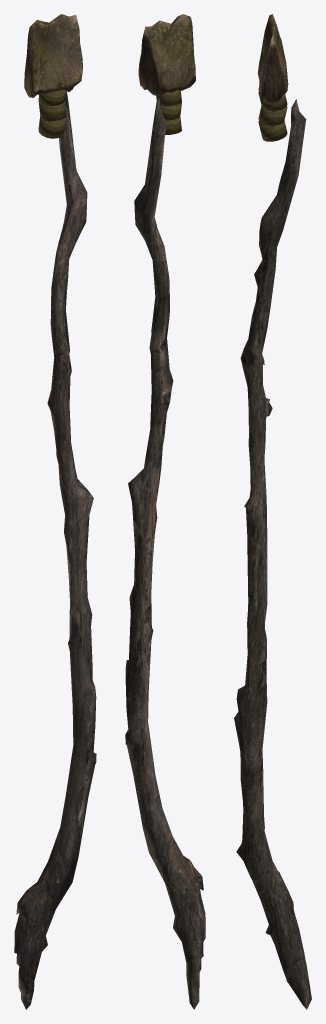
The model's file is SM_Spear.fbx.
3 views of the same model, side by side, from view 1: azimuth 30°, elevation 25°; view 2: azimuth 210°, elevation 25°; view 3: azimuth 270°, elevation 25° (orthographic). The views are drawn at different scales.
Visible parts, largest first — view 1: SM_Spear; view 2: SM_Spear; view 3: SM_Spear.
Boxes of the visible parts, <box> form: SM_Spear: <box>14,14,96,1009</box>; SM_Spear: <box>125,14,205,1009</box>; SM_Spear: <box>234,14,311,1009</box>.
Bounding box in the file's own units: 0.1356 × 2.04 × 0.145.
